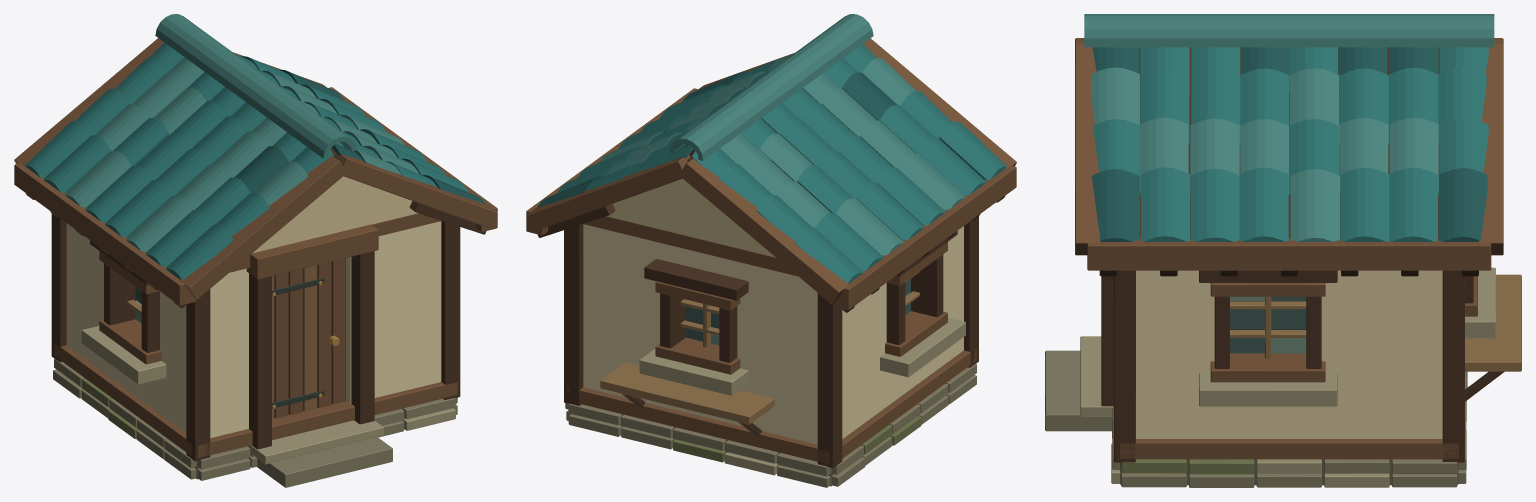
File: shed.glb
3 renders of one model, left to right at view 1: azimuth 30°, elevation 25°; view 2: azimuth 150°, elevation 25°; view 3: azimuth 270°, elevation 25°, orthographic. The views are drawn at different scales.
Parts seen in each view (by area): view 1: shed_material_timber_endgrain, shed_material_teal_tile, shed_material_plaster_lime, shed_material_teal_faded, shed_material_timber_structure, shed_material_stone_aged, shed_material_door_oak, shed_material_stone_light, shed_material_plaster_warm, shed_material_door_oak_light, shed_material_teal_deep, shed_material_stone_moss (+1 smaller); view 2: shed_material_plaster_lime, shed_material_timber_endgrain, shed_material_teal_tile, shed_material_teal_faded, shed_material_timber_structure, shed_material_stone_aged, shed_material_timber_worn, shed_material_plaster_warm, shed_material_stone_light, shed_material_teal_deep, shed_material_stone_moss, shed_material_window_glass; view 3: shed_material_teal_tile, shed_material_plaster_lime, shed_material_teal_faded, shed_material_timber_endgrain, shed_material_timber_structure, shed_material_teal_deep, shed_material_stone_aged, shed_material_stone_light, shed_material_timber_worn, shed_material_window_glass, shed_material_stone_moss, shed_material_window_glint.
Boxes of the visible parts, <box> form: shed_material_timber_endgrain: <box>14,38,497,457</box>; shed_material_teal_tile: <box>25,42,467,280</box>; shed_material_plaster_lime: <box>66,221,441,437</box>; shed_material_teal_faded: <box>65,14,419,251</box>; shed_material_timber_structure: <box>25,148,486,461</box>; shed_material_stone_aged: <box>53,358,457,487</box>; shed_material_door_oak: <box>274,258,345,418</box>; shed_material_stone_light: <box>81,326,455,464</box>; shed_material_plaster_warm: <box>252,176,417,253</box>; shed_material_door_oak_light: <box>272,265,317,419</box>; shed_material_teal_deep: <box>234,69,485,204</box>; shed_material_stone_moss: <box>81,378,457,438</box>; shed_material_plaster_lime: <box>583,224,963,444</box>; shed_material_timber_endgrain: <box>526,38,1016,464</box>; shed_material_teal_tile: <box>557,44,1006,283</box>; shed_material_teal_faded: <box>599,14,964,255</box>; shed_material_timber_structure: <box>537,150,1004,468</box>; shed_material_stone_aged: <box>565,364,976,487</box>; shed_material_timber_worn: <box>600,271,919,424</box>; shed_material_plaster_warm: <box>607,178,775,257</box>; shed_material_stone_light: <box>639,317,965,475</box>; shed_material_teal_deep: <box>537,71,897,207</box>; shed_material_stone_moss: <box>673,416,921,462</box>; shed_material_window_glass: <box>686,279,910,341</box>; shed_material_teal_tile: <box>1093,47,1488,241</box>; shed_material_plaster_lime: <box>1136,270,1442,438</box>; shed_material_teal_faded: <box>1084,14,1494,241</box>; shed_material_timber_endgrain: <box>1075,38,1503,459</box>; shed_material_timber_structure: <box>1099,47,1504,462</box>; shed_material_teal_deep: <box>1091,47,1487,241</box>; shed_material_stone_aged: <box>1045,350,1466,487</box>; shed_material_stone_light: <box>1080,267,1495,487</box>; shed_material_timber_worn: <box>1230,274,1521,371</box>; shed_material_window_glass: <box>1230,296,1306,353</box>; shed_material_stone_moss: <box>1121,408,1466,474</box>; shed_material_window_glint: <box>1230,296,1306,353</box>.
Bounding box in the file's own units: 3.82 × 3.69 × 4.06.
